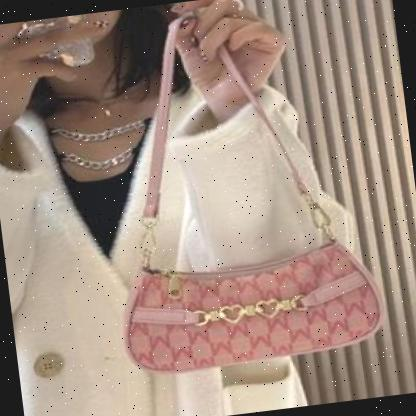bag: (79, 0, 392, 386)
